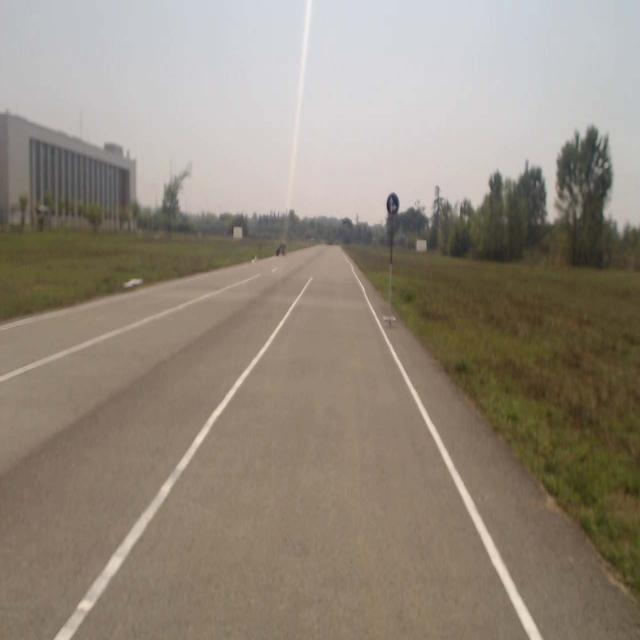ilerisag: (386, 194, 399, 214)
